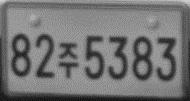2: (34, 34, 55, 79)
3: (107, 35, 128, 80), (156, 36, 177, 81)
5: (84, 34, 104, 80)
8: (131, 36, 154, 81), (10, 34, 32, 76)
주: (56, 40, 79, 78)
